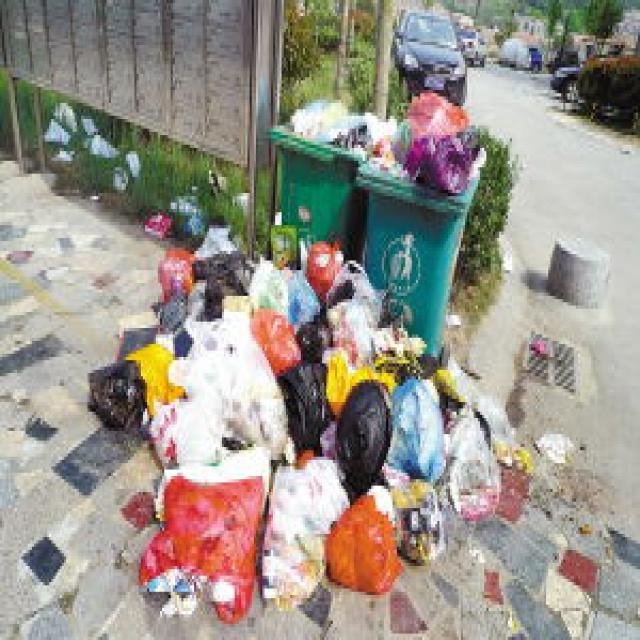garbage: (83, 167, 531, 621), (40, 93, 138, 187)
overflow: (352, 87, 484, 354), (269, 94, 365, 258)
